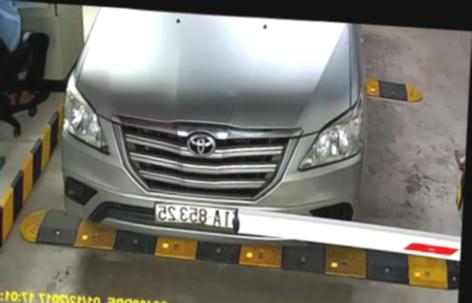License_Plate: (149, 197, 252, 232)
